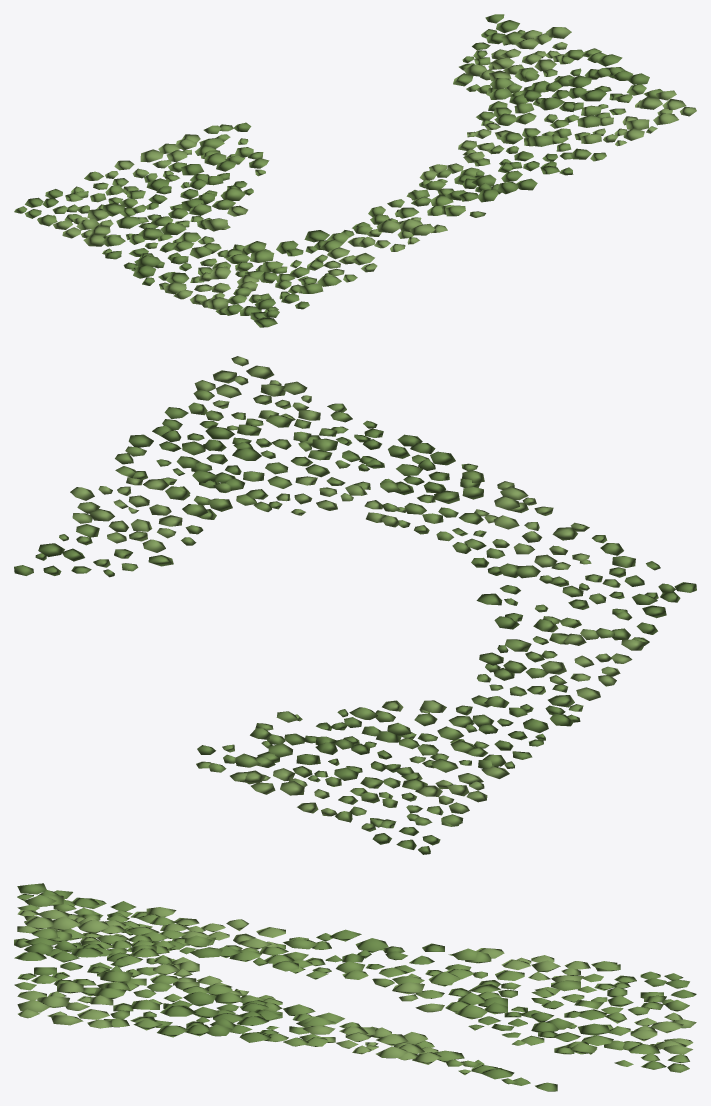
File: canopy-1--4--5.glb
3 renders of one model, top to bottom at view 1: azimuth 30°, elevation 25°; view 2: azimuth 150°, elevation 25°; view 3: azimuth 270°, elevation 25°, orthographic. The views are drawn at different scales.
Bounding box in the file's own units: 515 × 200 × 515.
1 material, 1 textured.
